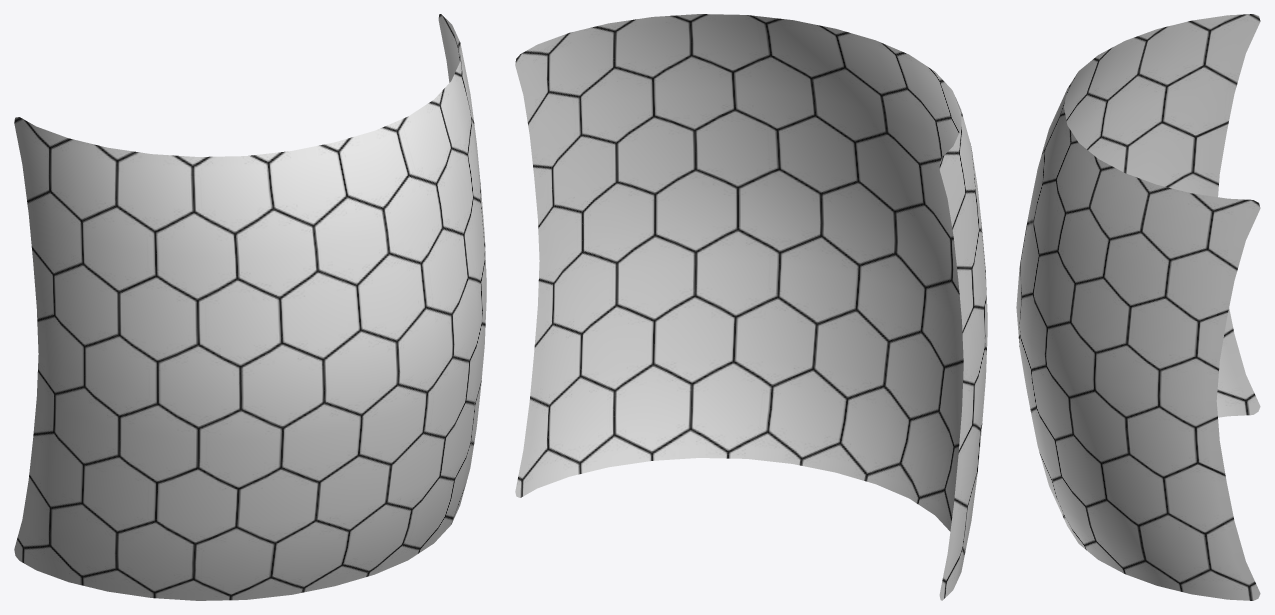
The model's file is HoloShield.fbx.
3 renders of one model, left to right at view 1: azimuth 30°, elevation 25°; view 2: azimuth 150°, elevation 25°; view 3: azimuth 270°, elevation 25°, orthographic. The views are drawn at different scales.
Parts seen in each view (by area): view 1: Holo_Shield; view 2: Holo_Shield; view 3: Holo_Shield.
Part boxes in pixels (bbox=[...]): Holo_Shield: bbox=[14, 14, 486, 600]; Holo_Shield: bbox=[515, 14, 987, 600]; Holo_Shield: bbox=[1016, 14, 1260, 600].
Size of the model in its own units: 200 by 200 by 110.
